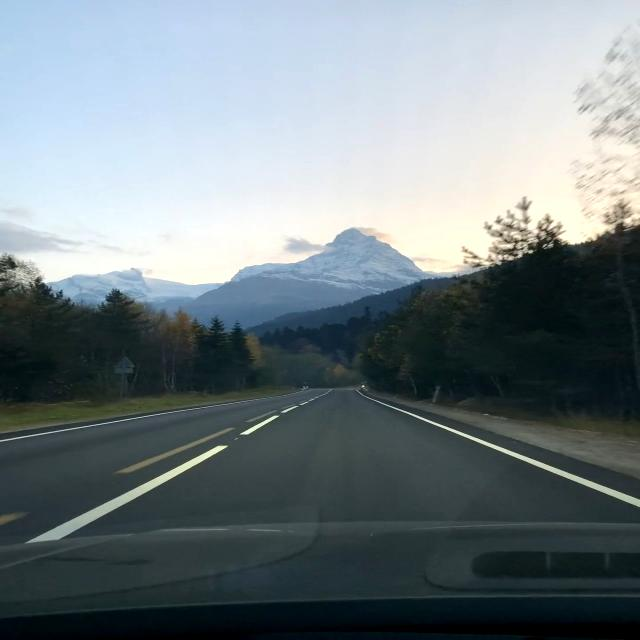lane: (360, 393, 640, 507), (27, 445, 227, 542), (0, 400, 253, 442), (116, 428, 233, 474), (240, 415, 280, 435)
